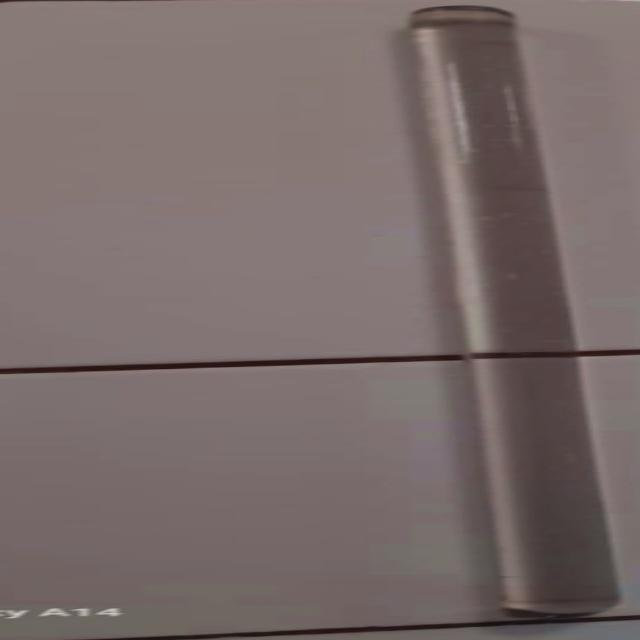Stirrer: (390, 2, 622, 630)
